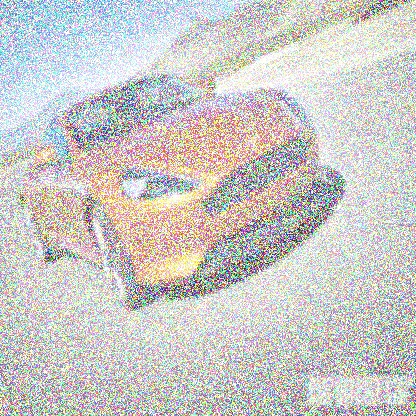Vehicle: (18, 72, 333, 312)
